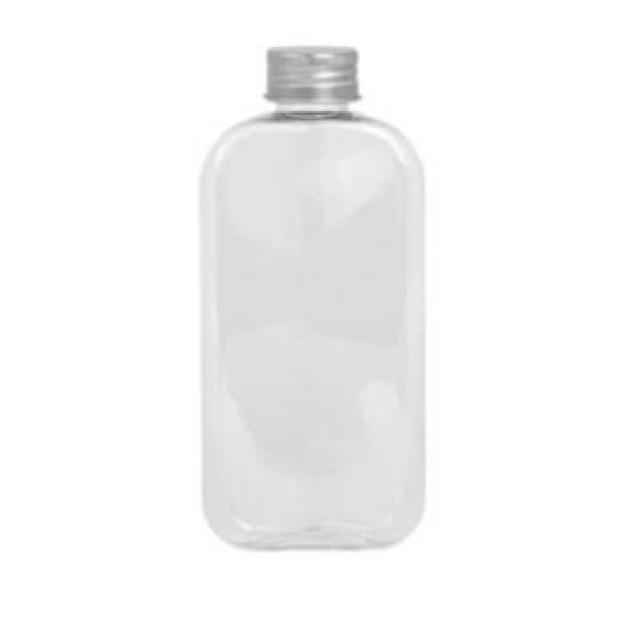bottle: (180, 31, 453, 579)
